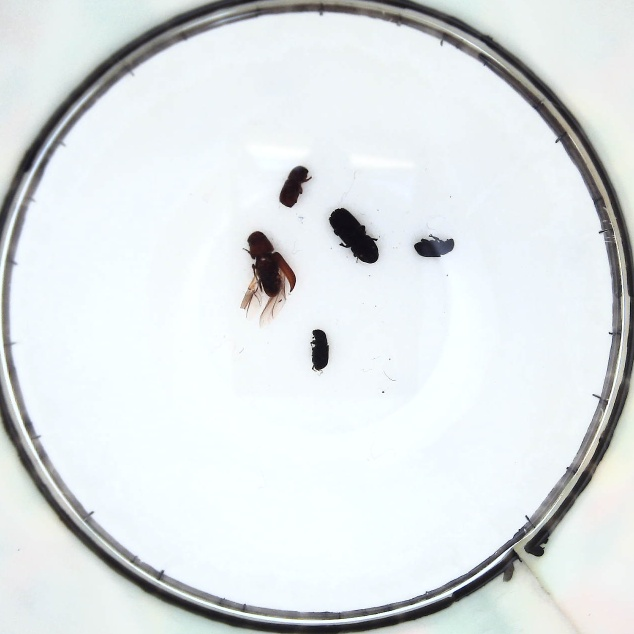armandi: (414, 232, 454, 260), (310, 327, 332, 373)
boerner: (329, 209, 376, 265)
leconte: (244, 229, 295, 314)
linnaeus: (277, 168, 311, 207)
